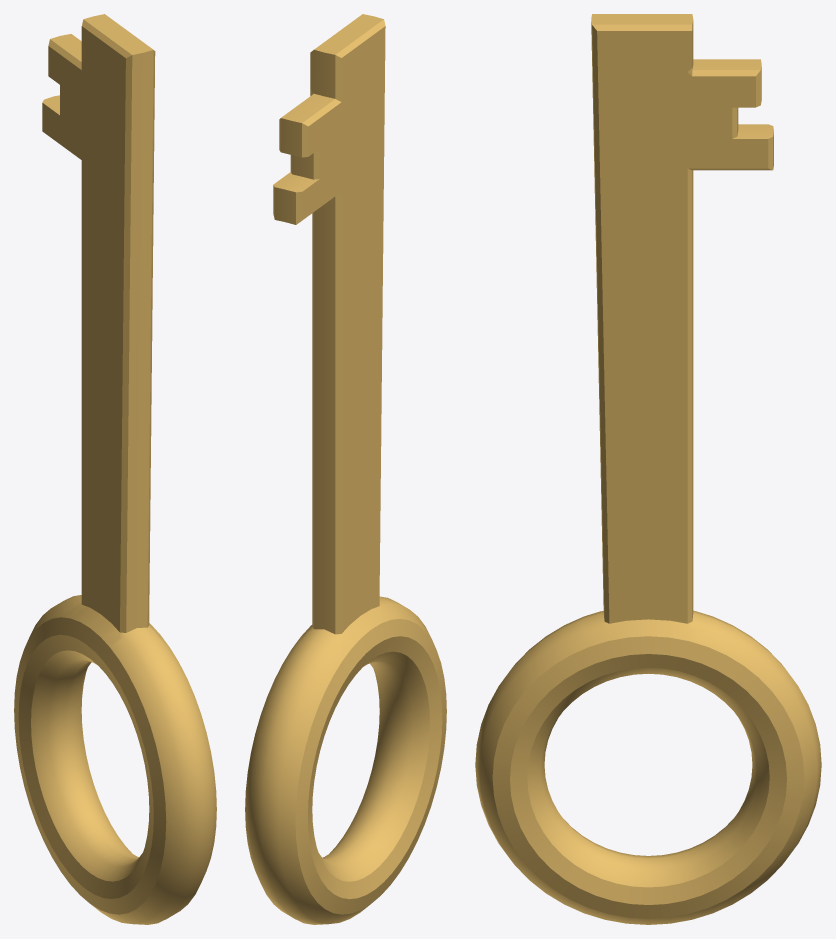
Rendered from llave fbx.fbx.
The picture shows the model from 3 angles, left to right: view 1: azimuth 30°, elevation 25°; view 2: azimuth 150°, elevation 25°; view 3: azimuth 270°, elevation 25°; orthographic projection. The views are drawn at different scales.
Visible parts, largest first — view 1: LLAVE; view 2: LLAVE; view 3: LLAVE.
Part boxes in pixels (bbox=[...]): LLAVE: bbox=[14, 14, 216, 924]; LLAVE: bbox=[245, 14, 446, 924]; LLAVE: bbox=[475, 14, 821, 924].
Bounding box in the file's own units: 50 × 719 × 250.
